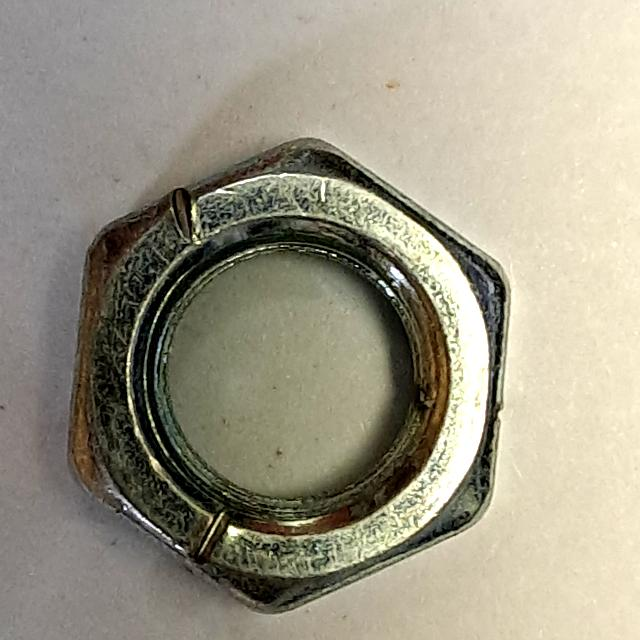Scratches: (51, 124, 527, 634)
